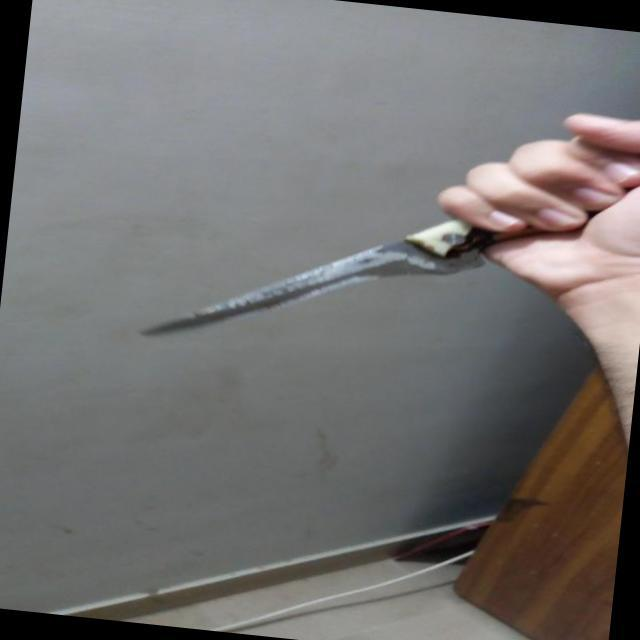Knife: (123, 135, 638, 387)
